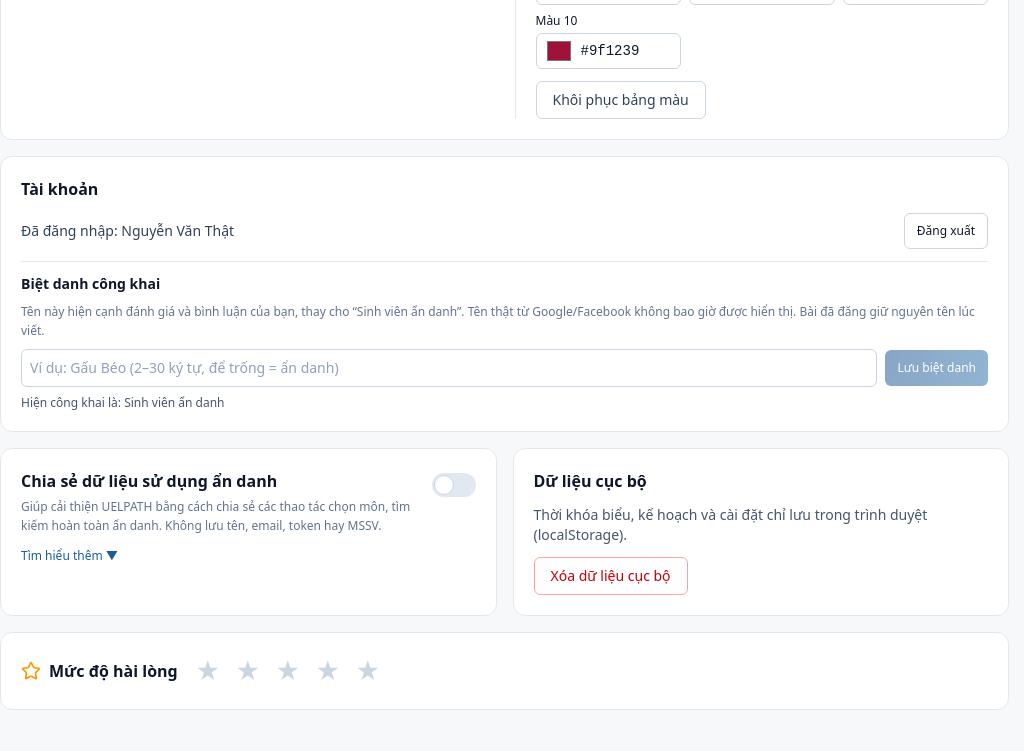
Test case: Cài đặt — biệt danh công khai › hiện lỗi từ máy chủ khi biệt danh không hợp lệ
(page scrolled)
Type "Admin" into the field named "Biệt danh" at coordinates (449, 368), box [21, 348, 877, 386]
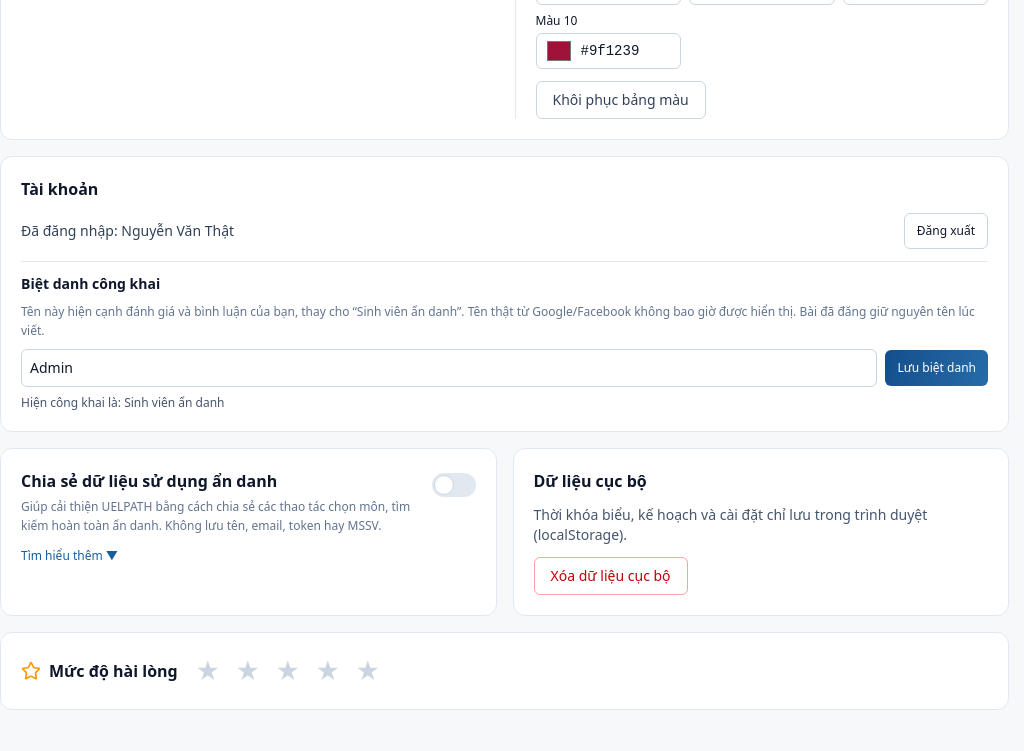
Click the button "Lưu biệt danh" at coordinates (937, 368), box [885, 350, 988, 386]
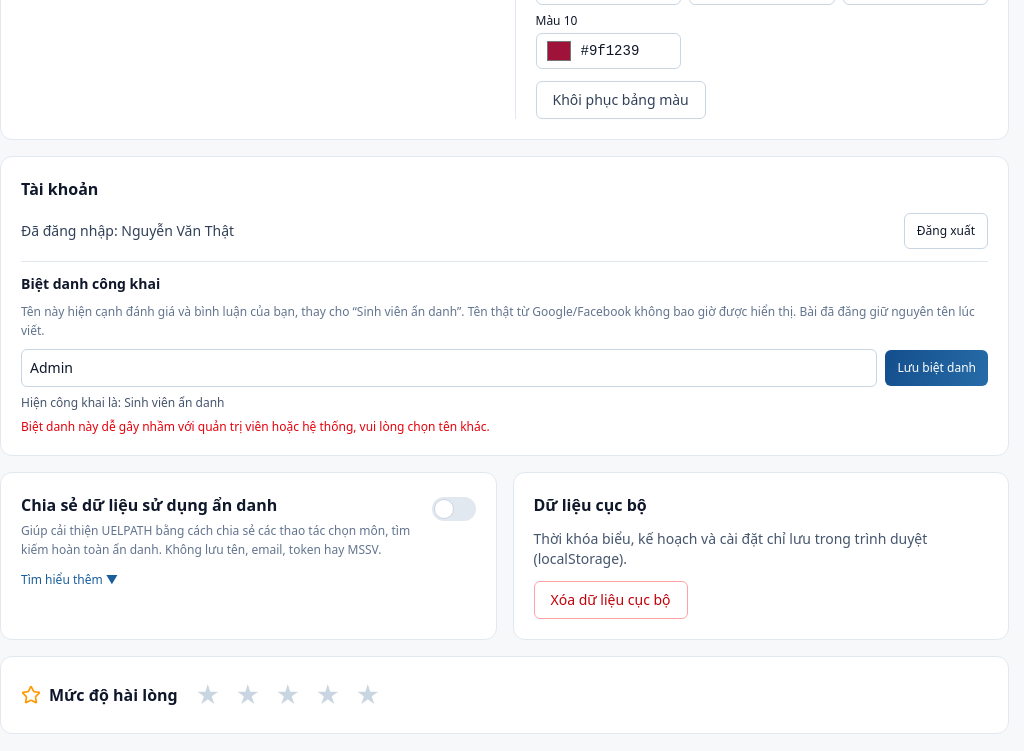
Check: the message shows "dễ gây nhầm với quản trị viên", box [21, 418, 490, 434]
